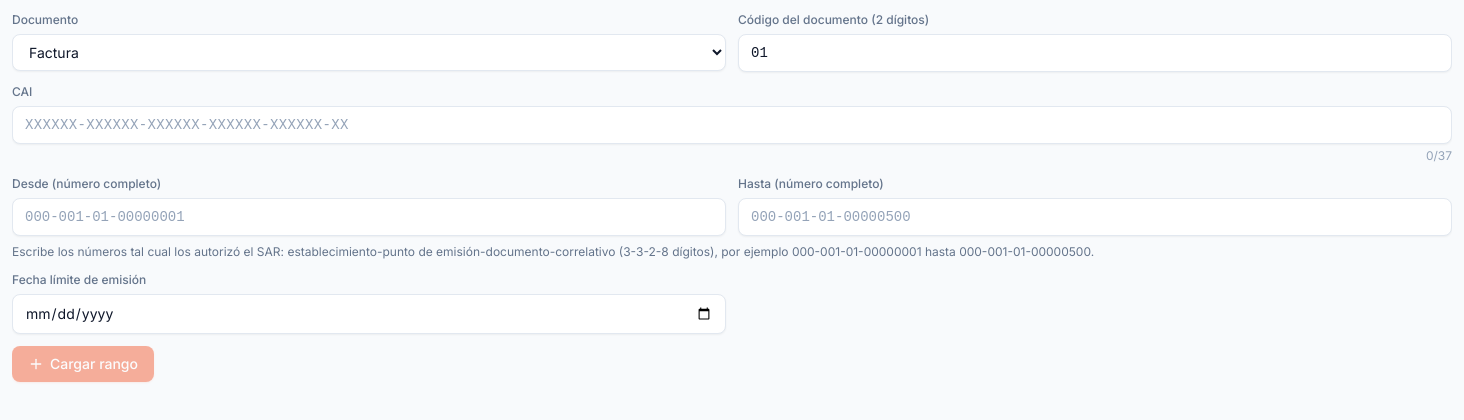
Scenario: FormularioRango con UNA sucursal › rechaza una fecha límite que ya pasó
In the date field labelled "Fecha límite de emisión": (369, 314) [12,294,726,334], type "2030-06-01"
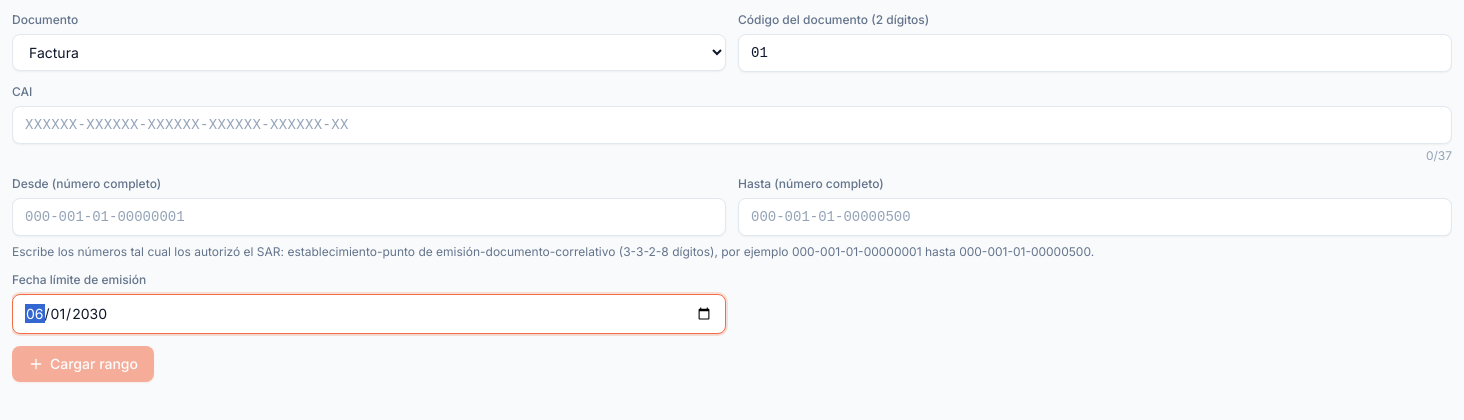
Press Tab
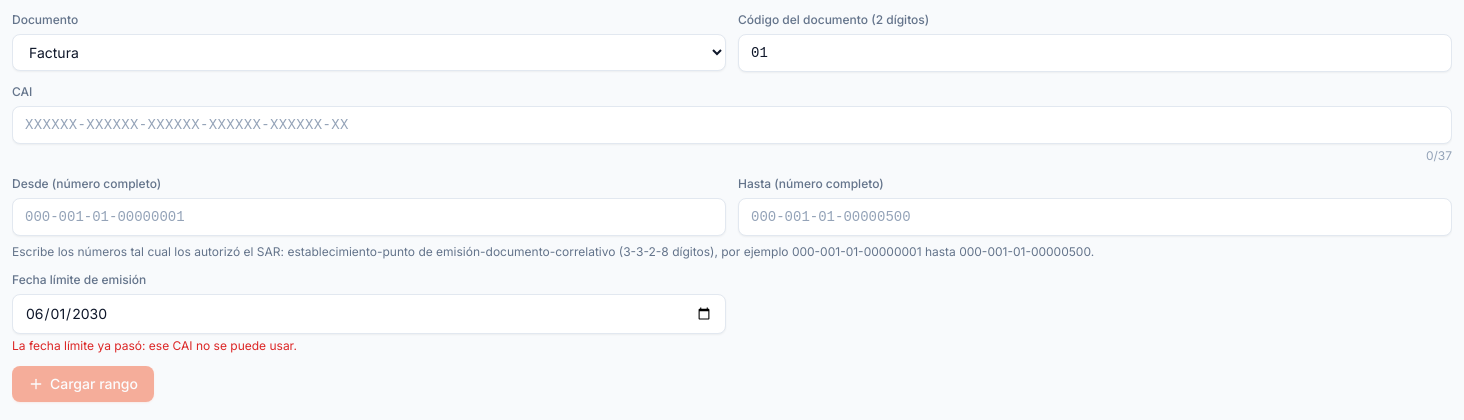
Check: the text "La fecha límite ya pasó: ese CAI no se puede usar." is shown, box [12,338,297,353]
